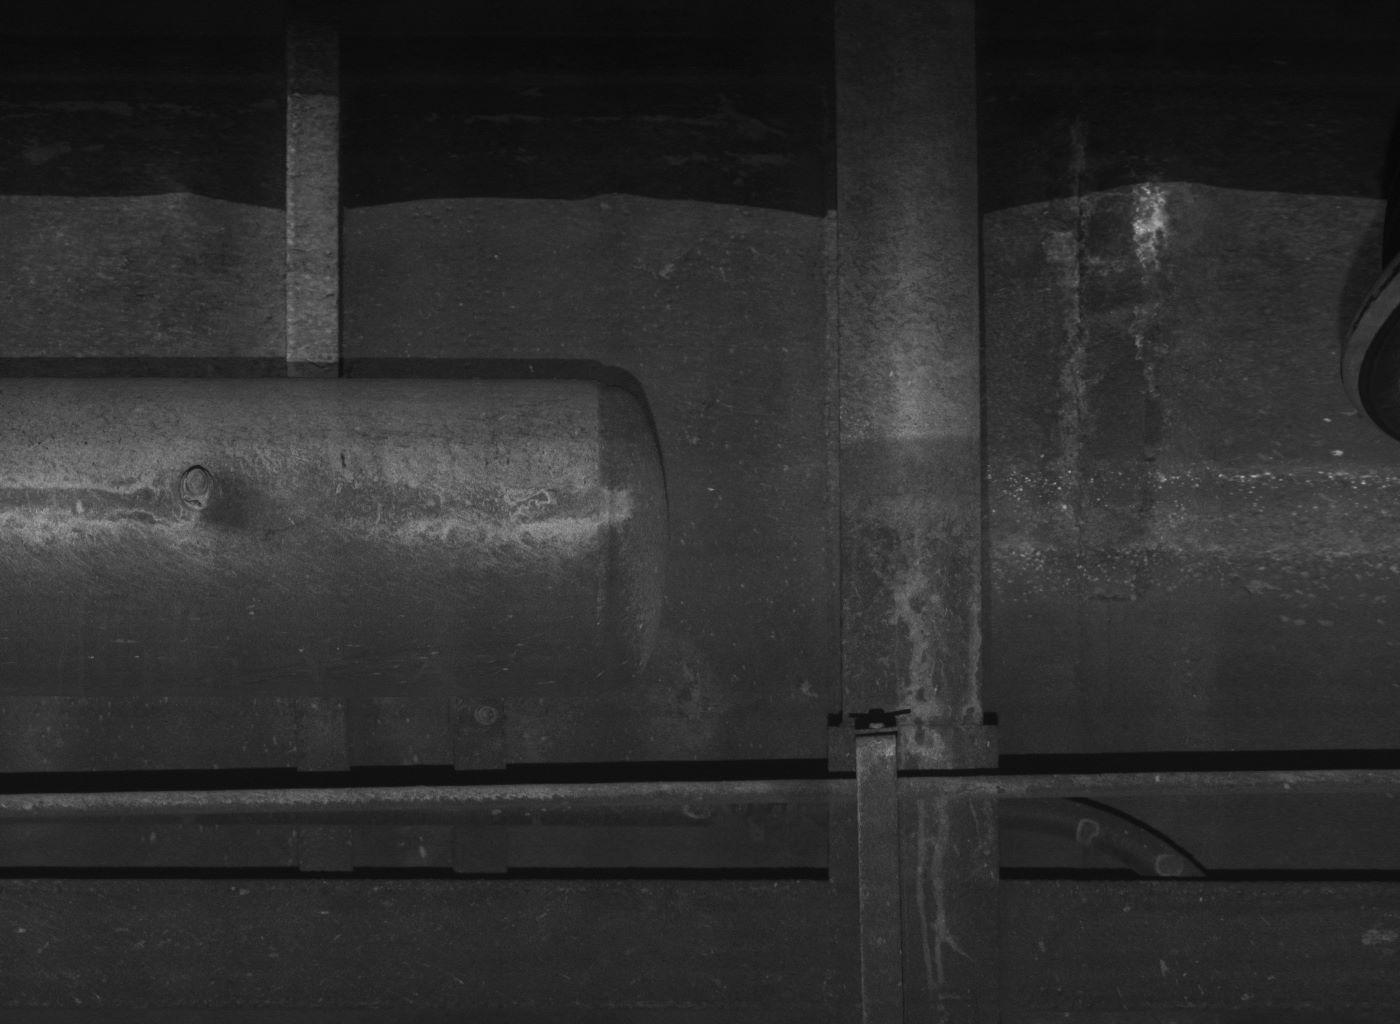normal: (855, 722, 905, 1024)
